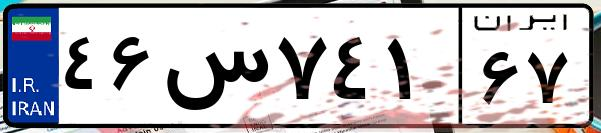1: (385, 28, 445, 110)
4: (330, 28, 385, 110), (57, 26, 110, 100)
6: (475, 38, 525, 113), (110, 28, 158, 98)
7: (270, 28, 330, 110), (525, 38, 570, 115)
س: (158, 20, 270, 120)
